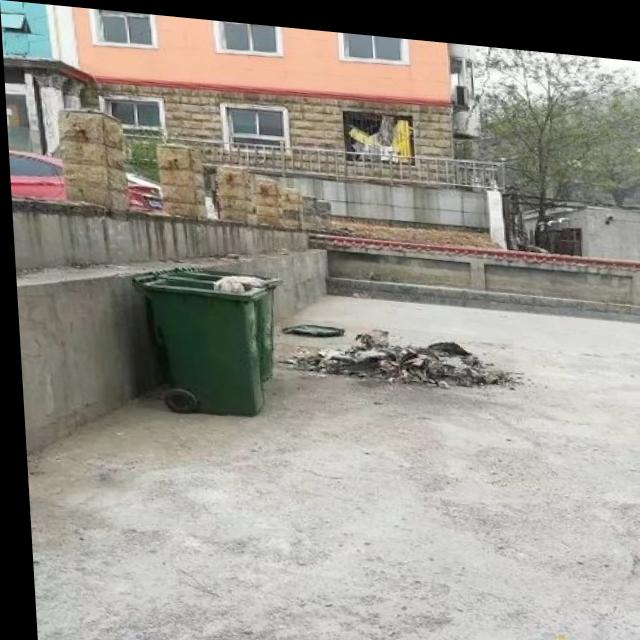garbage: (271, 311, 512, 382)
overflow: (126, 257, 281, 416)
